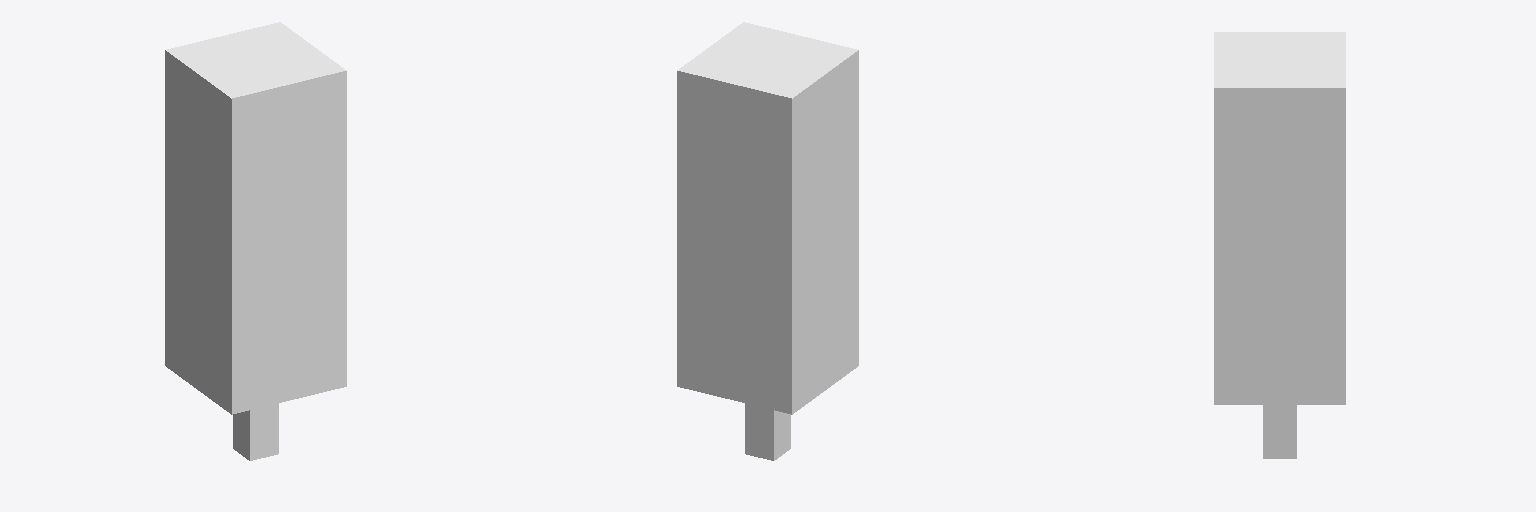
The model's file is another_tree.obj.
3 views of the same model, side by side, from view 1: azimuth 30°, elevation 25°; view 2: azimuth 150°, elevation 25°; view 3: azimuth 270°, elevation 25° (orthographic).
Parts seen in each view (by area): view 1: object 1; view 2: object 1; view 3: object 1.
Part boxes in pixels (x1,y1,x2,y2): object 1: (165,22,346,460); object 1: (677,22,858,460); object 1: (1214,32,1345,458).
Bounding box in the file's own units: 0.8 × 2.6 × 0.8.